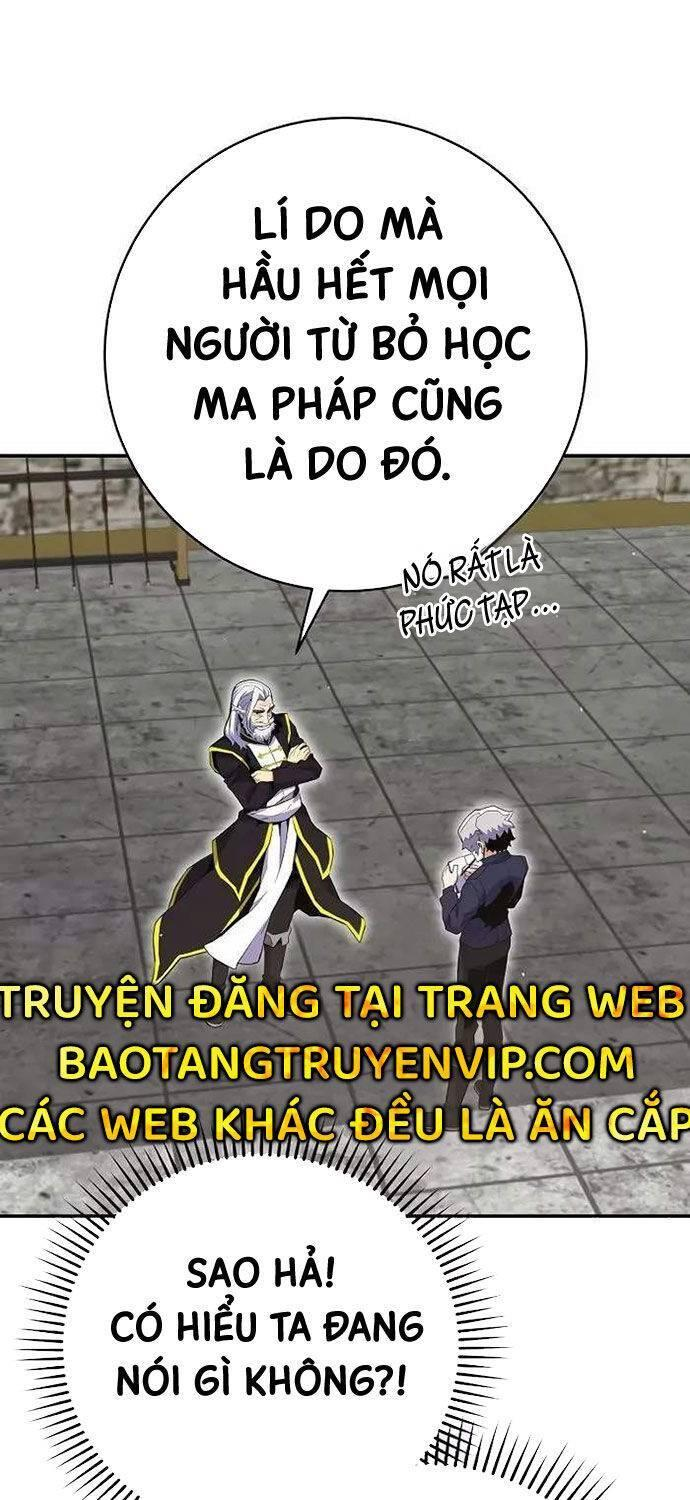quangcao: (0, 964, 690, 1162)
